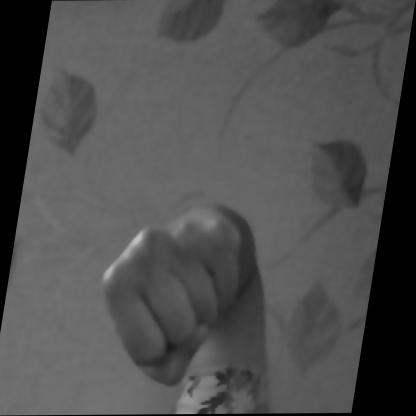fist: (79, 163, 307, 405)
